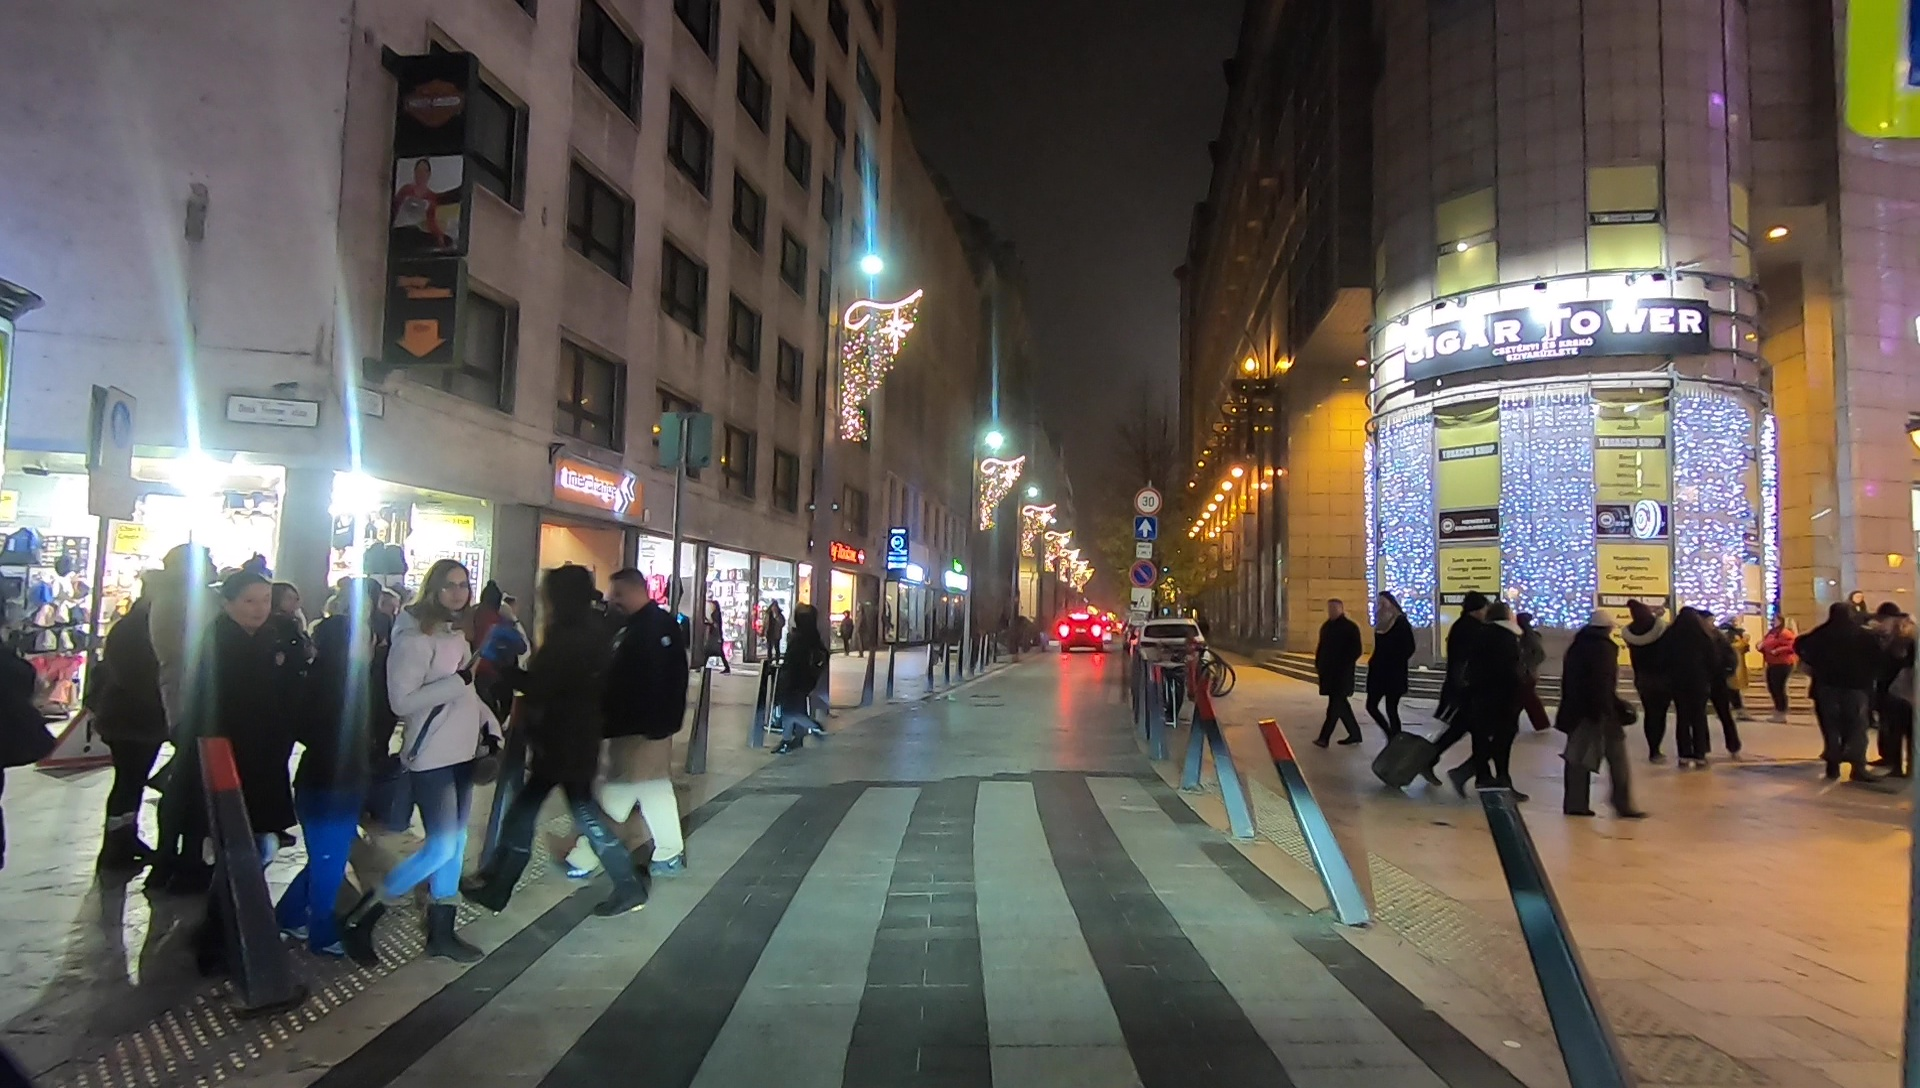person: (479, 561, 633, 921), (358, 559, 477, 961), (579, 574, 691, 879), (194, 576, 288, 932), (272, 617, 349, 946), (1561, 601, 1637, 822), (1808, 605, 1871, 787), (1471, 603, 1527, 795), (1444, 595, 1496, 786), (1617, 602, 1673, 763), (775, 598, 825, 764), (1875, 605, 1920, 788), (1318, 602, 1364, 752), (1671, 602, 1707, 769), (1371, 591, 1407, 748), (1763, 614, 1799, 722)
